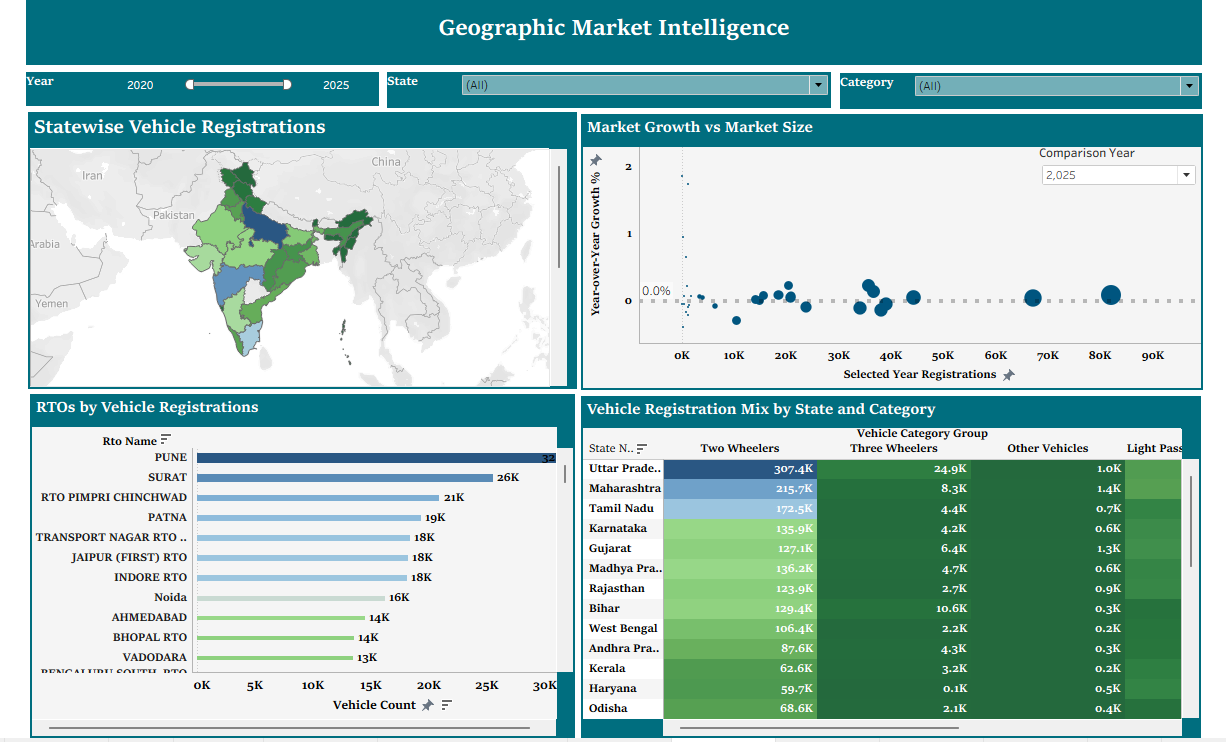

This screenshot's page, from the dashboard's own definition file:
{"tool":"tableau","page":{"name":"Dashboard 2","canvas":[1200,1000],"ordinal":1},"visuals":[{"type":"title","box":[8,8,1184,81]},{"type":"filter","title":"05 - State Registration Ranking","param":"[federated.126gv5v0tedxz11cikqk708k748i].[none:registrationYear:qk]","box":[12,92,353,34]},{"type":"filter","title":"05 - State Registration Ranking","param":"[federated.126gv5v0tedxz11cikqk708k748i].[none:stateName:nk]","box":[373,92,444,36]},{"type":"filter","title":"05 - State Registration Ranking","param":"[federated.126gv5v0tedxz11cikqk708k748i].[none:Calculation_1106712995401733:nk]","box":[826,93,362,36]},{"type":"worksheet","title":"05 - State Registration Ranking","mark":"Multipolygon","box":[14,132,549,277]},{"type":"worksheet","title":"State Growth","mark":"Circle","rows":["Calculation_1106713048858634"],"cols":["Calculation_1106713048723464"],"box":[567,134,622,276]},{"type":"parameter","param":"[Parameters].[Parameter 1106713048309767]","box":[1025,164,160,44]},{"type":"worksheet","title":"RTO Contribution","mark":"Bar","rows":["rtoName"],"cols":["vehicleCount"],"box":[16,414,545,344]},{"type":"worksheet","title":"State Category Highlight Table","mark":"Square","rows":["stateName"],"cols":["Calculation_1106712995401733"],"box":[567,416,620,342]}]}

Visuals, with their boxes on the page's 1200x1000 design canvas (x1, y1, x2, y2). These are canvas units, not pixel positions in the 1226x742 screenshot, which may show the page scaled, cropped or inside an application window:
title: (8,8,1192,89)
"05 - State Registration Ranking" filter: (12,92,365,126)
"05 - State Registration Ranking" filter: (373,92,817,128)
"05 - State Registration Ranking" filter: (826,93,1188,129)
"05 - State Registration Ranking" worksheet (Multipolygon marks): (14,132,563,409)
"State Growth" worksheet (Circle marks): (567,134,1189,410)
parameter: (1025,164,1185,208)
"RTO Contribution" worksheet (Bar marks): (16,414,561,758)
"State Category Highlight Table" worksheet (Square marks): (567,416,1187,758)
